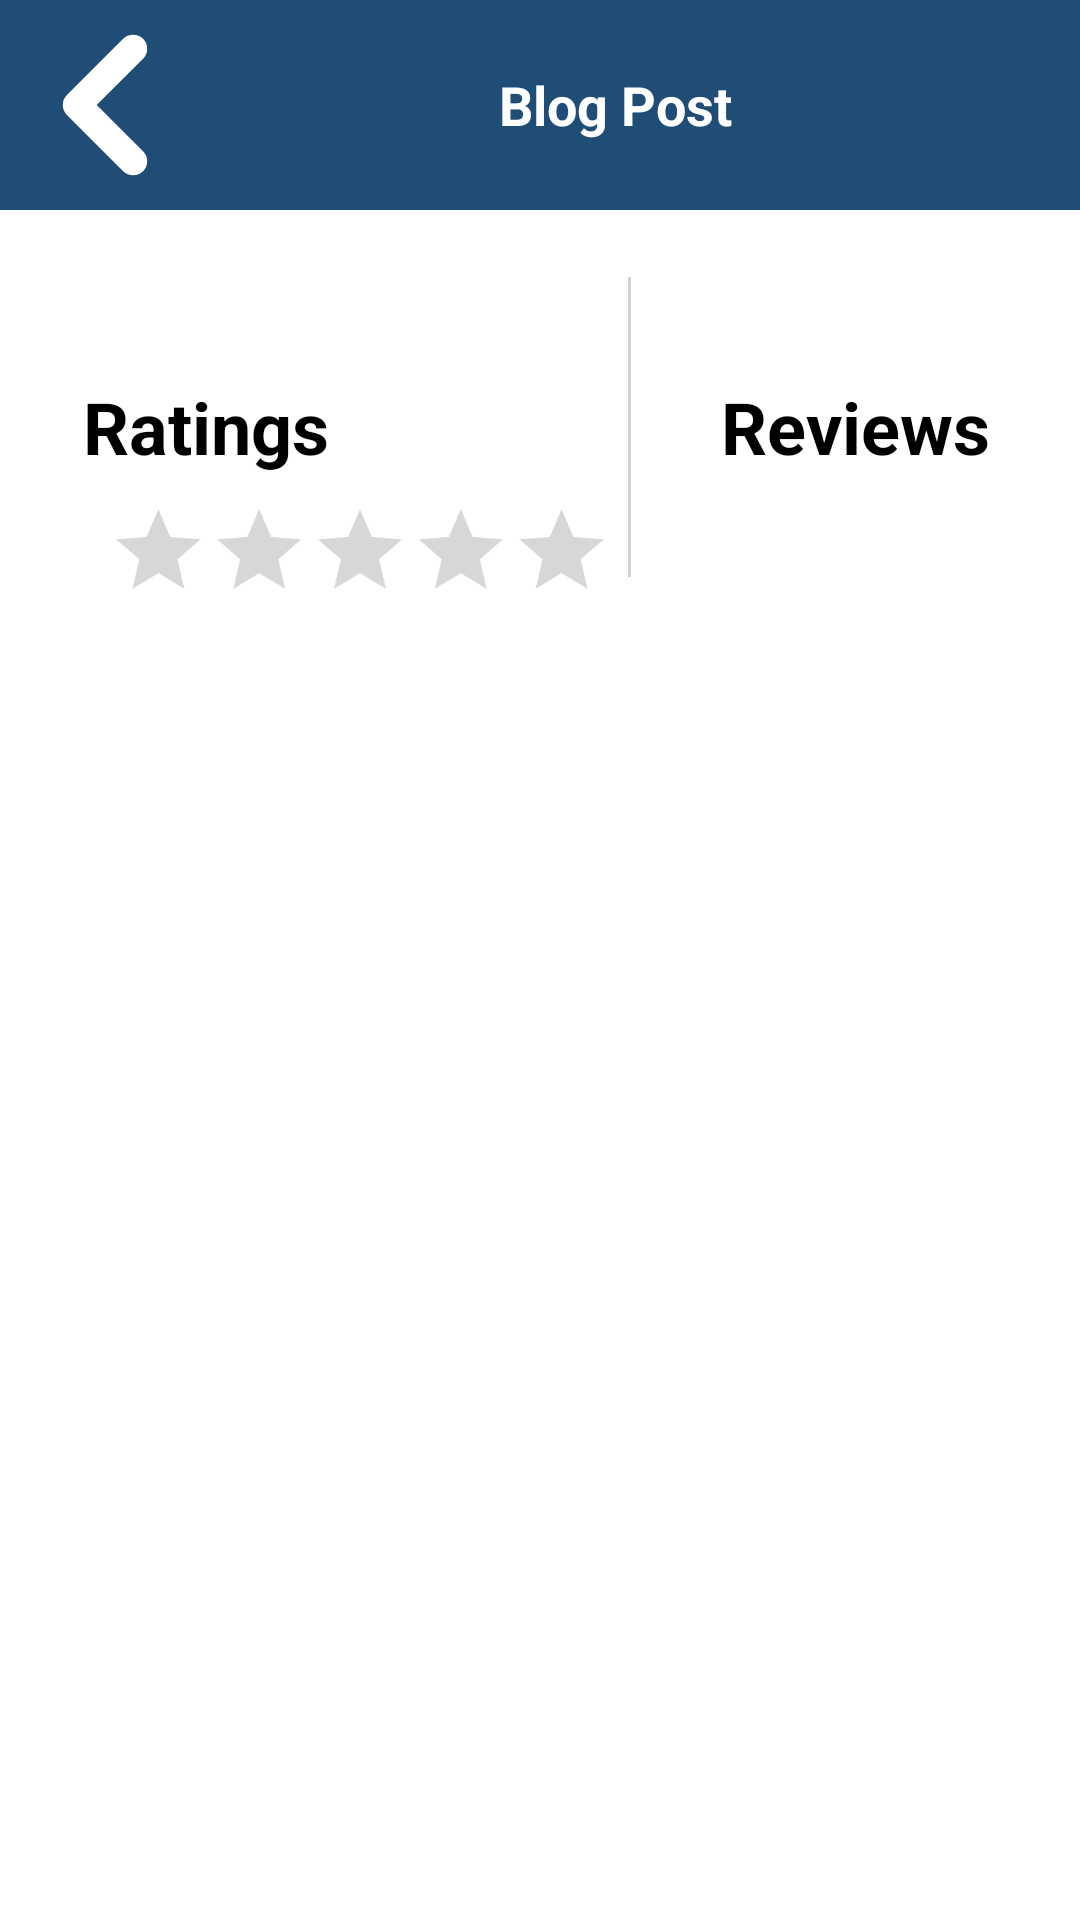

Icon bounding boxes for this 1080×1920 phone screenshot, format (x1, y1, x2, y2):
Back: (62, 34, 148, 176)
